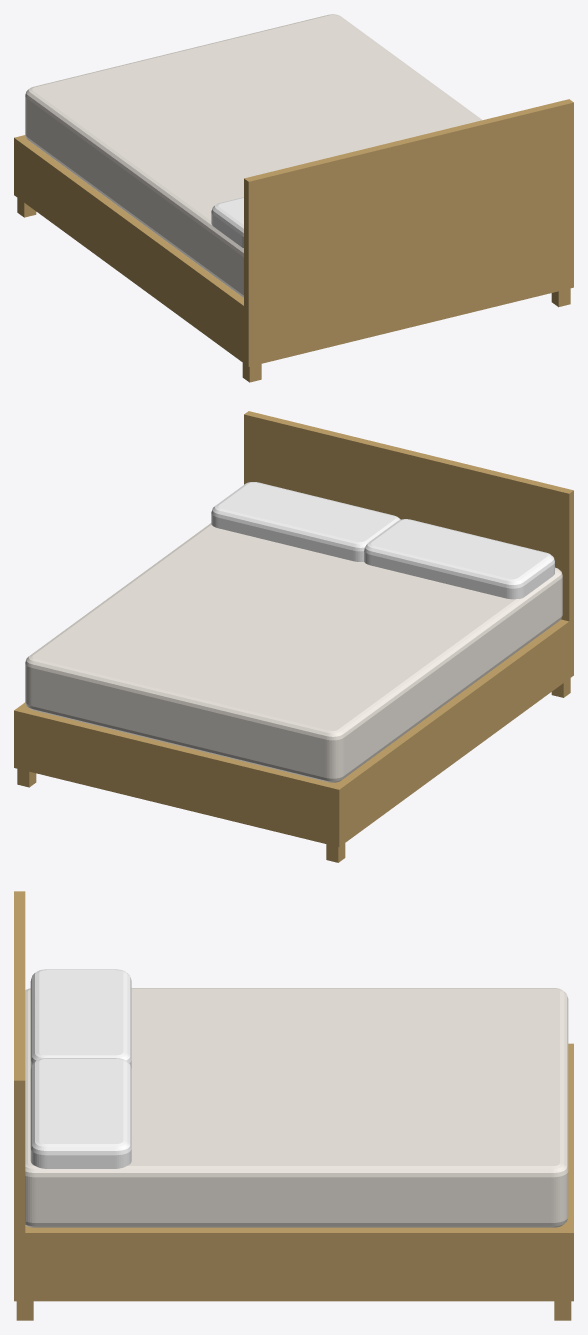
3 views of the same model, one above another, from view 1: azimuth 30°, elevation 25°; view 2: azimuth 150°, elevation 25°; view 3: azimuth 270°, elevation 25° (orthographic). The views are drawn at different scales.
Visible parts, largest first — view 1: bed-mattress, bed-headboard, bed-back, bed-side-L, bed-frame, bed-pillow-1; view 2: bed-mattress, bed-headboard, bed-front, bed-side-L, bed-pillow-1, bed-pillow-2, bed-frame; view 3: bed-mattress, bed-side-R, bed-pillow-2, bed-frame, bed-pillow-1, bed-headboard, bed-front, bed-back.
Part boxes in pixels (x1,y1,x2,y2): bed-mattress: [25, 14, 482, 297]; bed-headboard: [244, 99, 573, 309]; bed-back: [244, 231, 573, 365]; bed-side-L: [14, 137, 256, 366]; bed-frame: [14, 135, 573, 317]; bed-pillow-1: [211, 197, 243, 248]; bed-mattress: [25, 523, 562, 782]; bed-headboard: [244, 411, 573, 621]; bed-front: [14, 707, 343, 846]; bed-side-L: [331, 619, 573, 846]; bed-pillow-1: [364, 519, 554, 599]; bed-pillow-2: [211, 482, 400, 561]; bed-frame: [14, 618, 573, 798]; bed-mattress: [25, 988, 568, 1227]; bed-side-R: [14, 1228, 573, 1301]; bed-pillow-2: [30, 1058, 131, 1168]; bed-frame: [14, 1043, 573, 1242]; bed-pillow-1: [30, 969, 131, 1069]; bed-headboard: [14, 891, 25, 1232]; bed-front: [562, 1046, 573, 1301]; bed-back: [14, 1233, 25, 1301].
Bounding box in the file's own units: 1.6 × 0.95 × 2.
